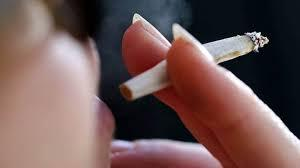smoke: (121, 32, 269, 101)
